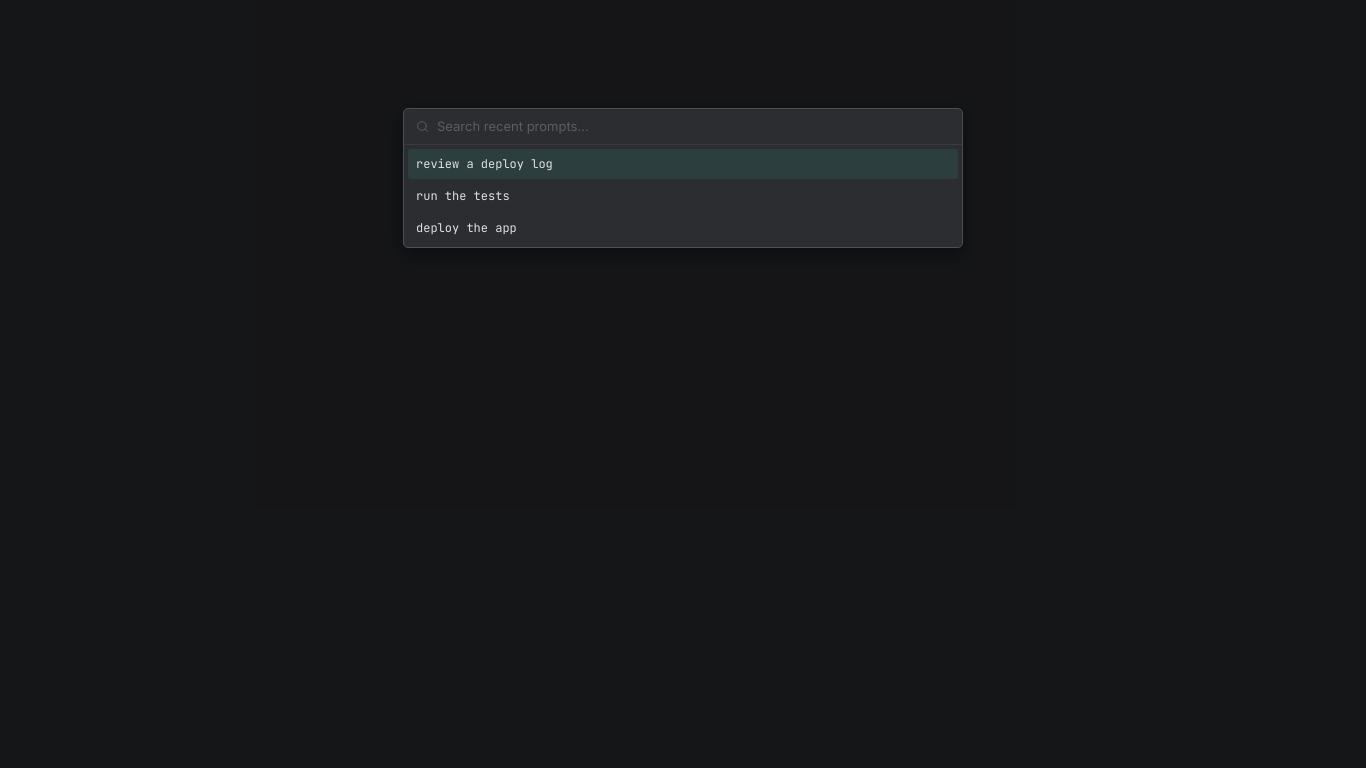
Test: HistoryOverlay › filters as you type (case-insensitive substring)
The width and height of the screenshot is (1366, 768).
Type "deploy" into the field with test id "history-search" at [694, 126], box left=437, top=116, right=950, bottom=136
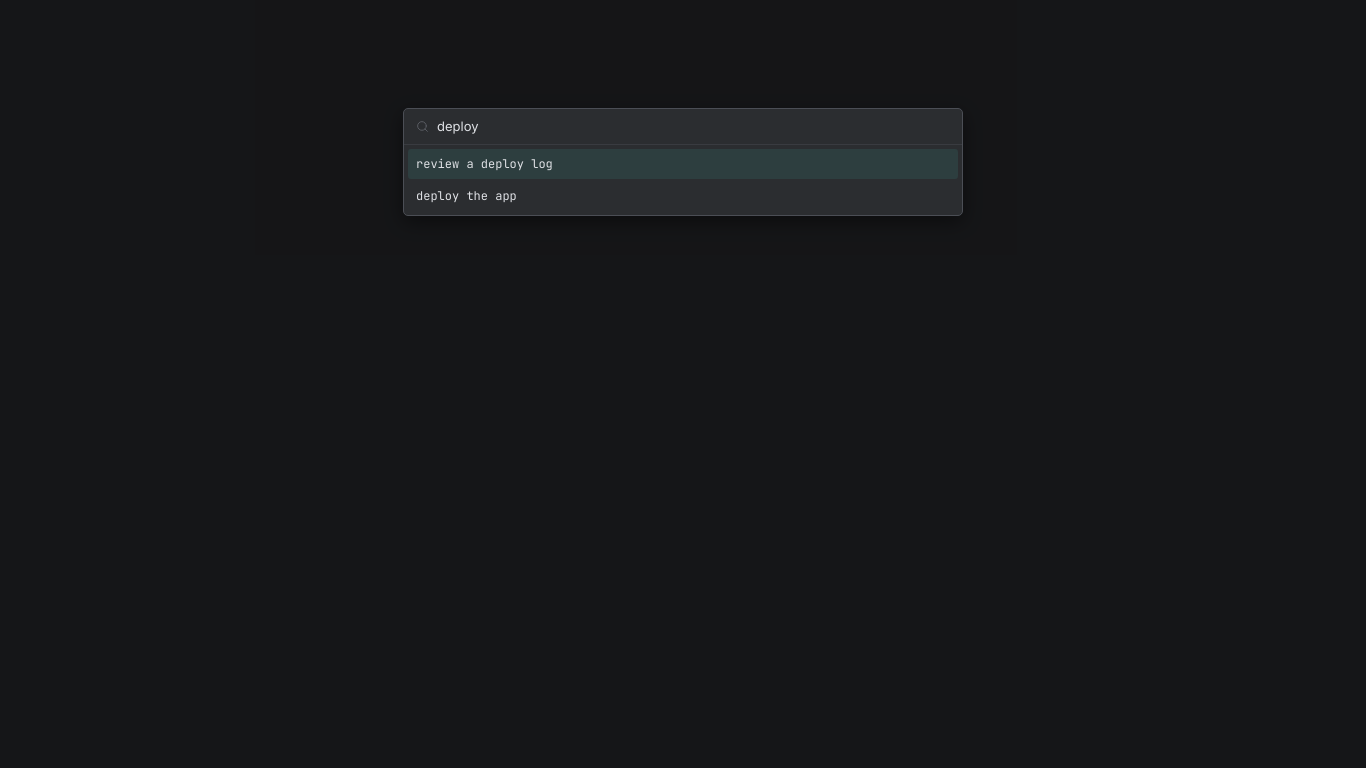
Expected: the elements with test id "^history-item-" read "review a deploy log", "deploy the app", in this order, left=408, top=149, right=958, bottom=179; left=408, top=181, right=958, bottom=211
